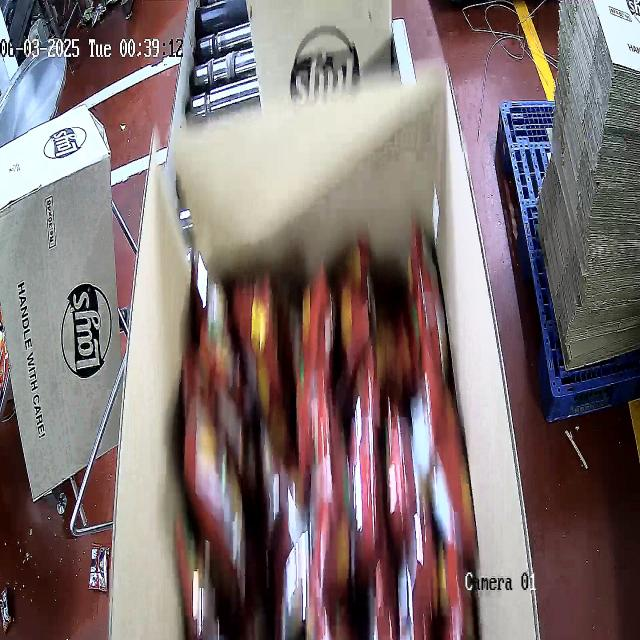MASALA: (185, 244, 468, 640)
